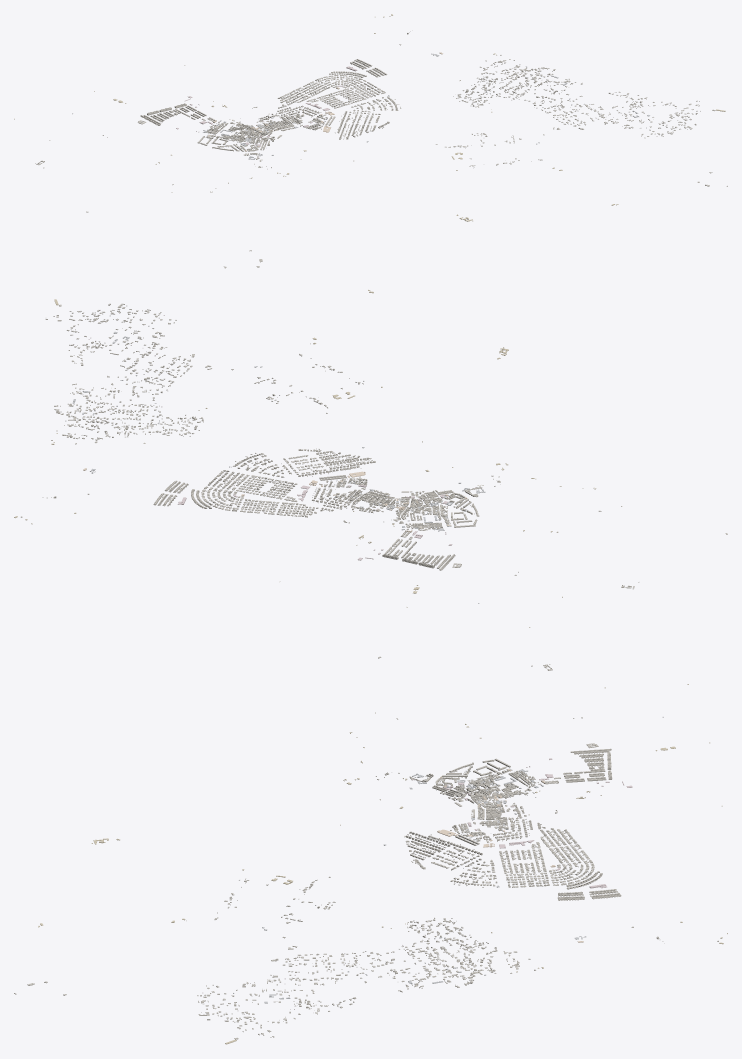
The model's file is almensilla_buildings.glb.
The picture shows the model from 3 angles, top to bottom: view 1: azimuth 30°, elevation 25°; view 2: azimuth 150°, elevation 25°; view 3: azimuth 270°, elevation 25°; orthographic projection. The views are drawn at different scales.
Bounding box in the file's own units: 4819 × 15 × 3752.
